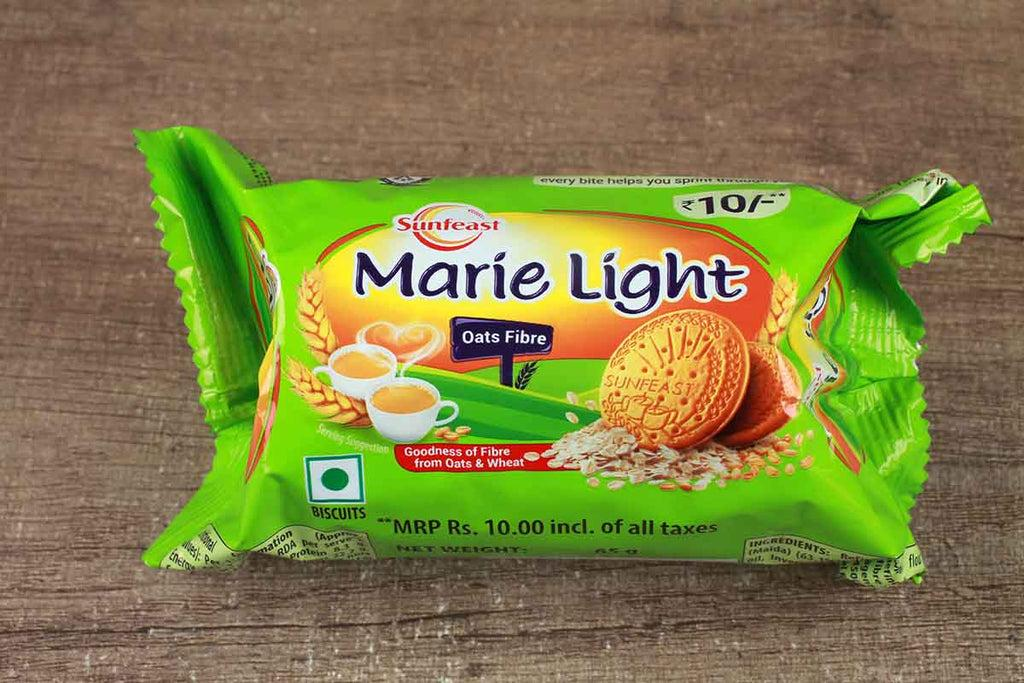MarieLight: (132, 120, 994, 598)
